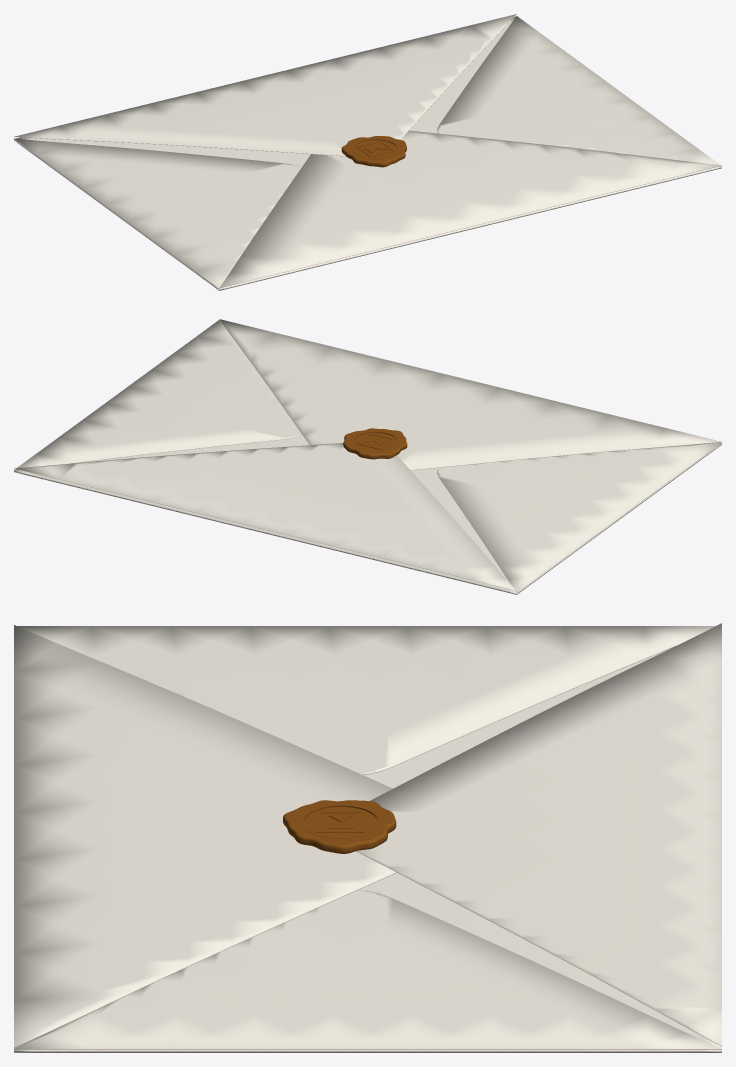
Rendered from envelope.glb.
3 views of the same model, one above another, from view 1: azimuth 30°, elevation 25°; view 2: azimuth 150°, elevation 25°; view 3: azimuth 270°, elevation 25° (orthographic). The views are drawn at different scales.
Visible parts, largest first — view 1: flaps, flap, body, seal; view 2: flaps, flap, body, seal; view 3: flaps, flap, body, seal.
Part boxes in pixels (x1,y1,x2,y2): flaps: (14, 16, 721, 288); flap: (14, 14, 516, 156); body: (14, 16, 721, 290); seal: (341, 136, 406, 167); flaps: (14, 319, 721, 592); flap: (14, 443, 516, 590); body: (14, 435, 721, 594); seal: (343, 428, 407, 459); flaps: (14, 625, 721, 1049); flap: (356, 623, 721, 1046); body: (14, 648, 721, 1052); seal: (283, 800, 396, 853).
Size of the model in its own units: 0.229 by 0.00652 by 0.162.
